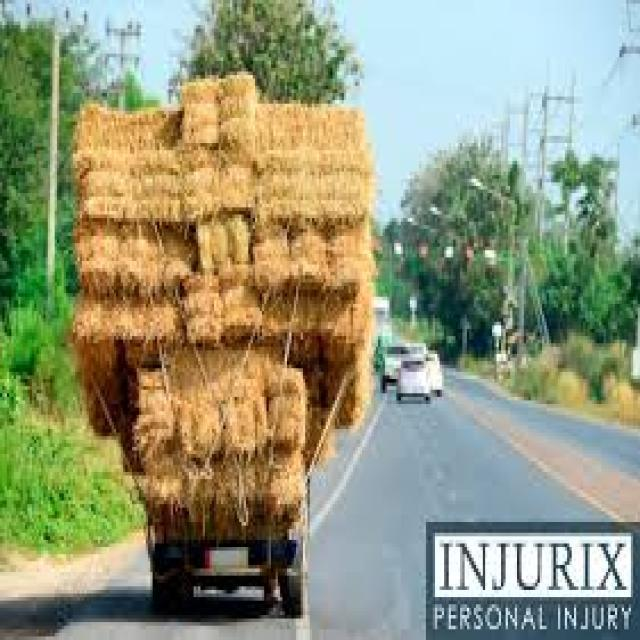uncovered: (72, 75, 375, 623)
